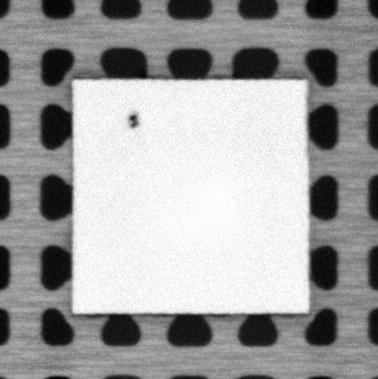DIE_INK: (127, 112, 140, 130)
